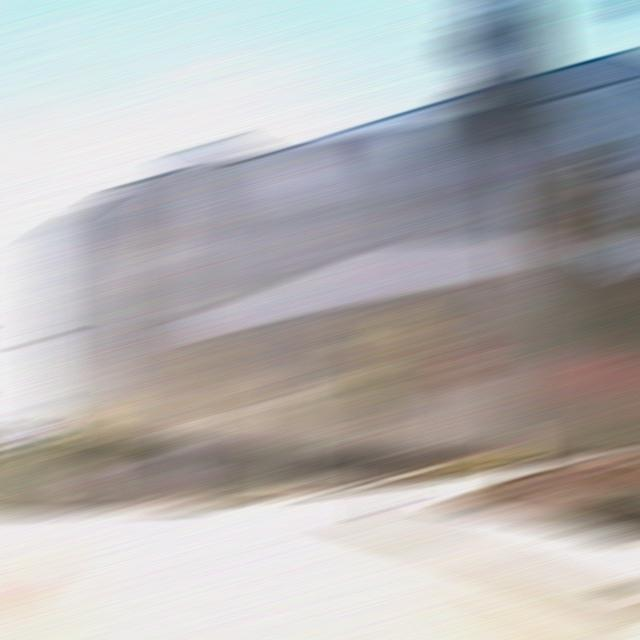stop: (438, 341, 497, 386)
